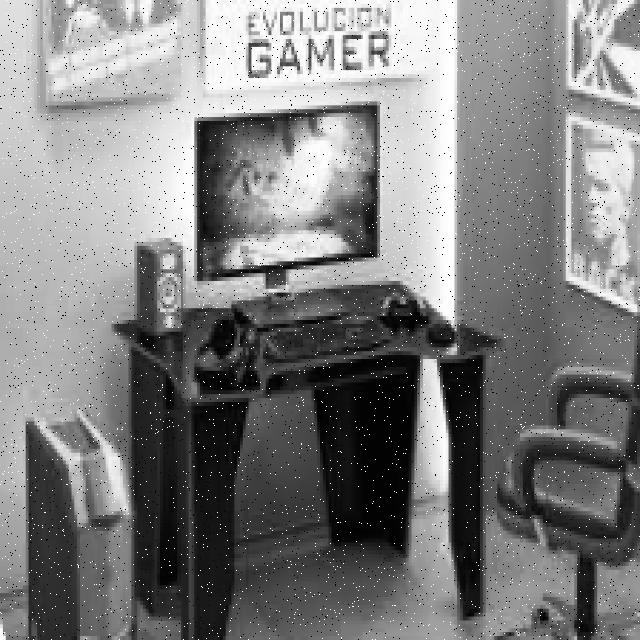book: (485, 199, 640, 640)
table: (111, 281, 500, 640)
